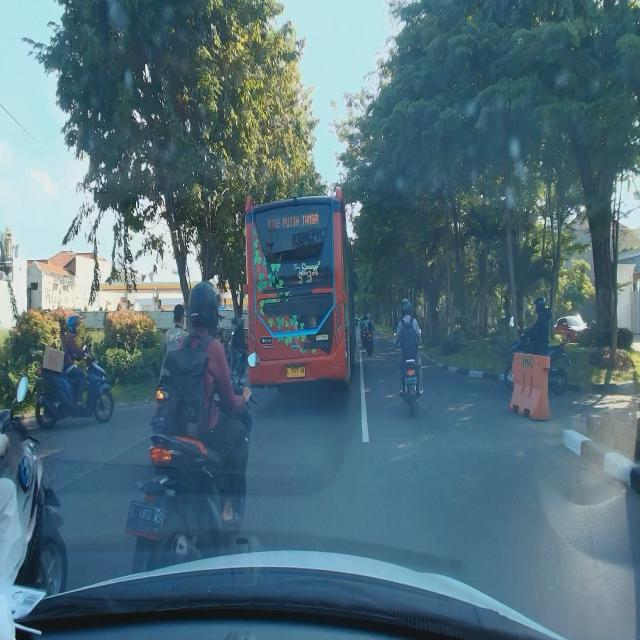bus: (243, 185, 356, 393)
license-plate: (286, 366, 306, 378)
